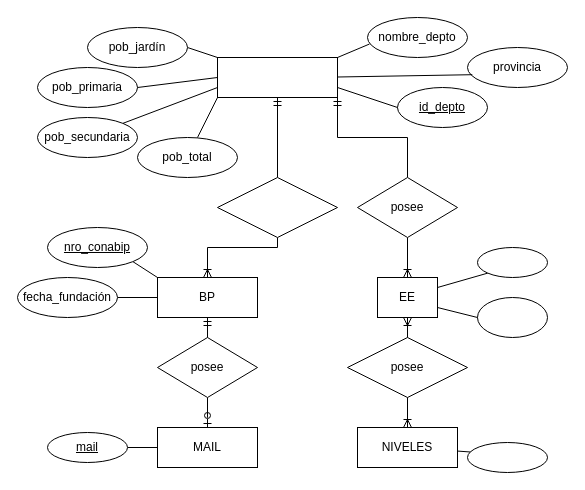
The diagram is 585 pixels wide and 490 high, and some of its shapes have lost their labels. The shapes that lost their labels are listed below. From the top down, each one's centre as x and y in pixels, then its label:
the point at 277,77: DEPARTAMENTO
the point at 277,207: tiene
the point at 512,262: cueanexo
the point at 512,317: nombre_EE
the point at 507,457: nivel
